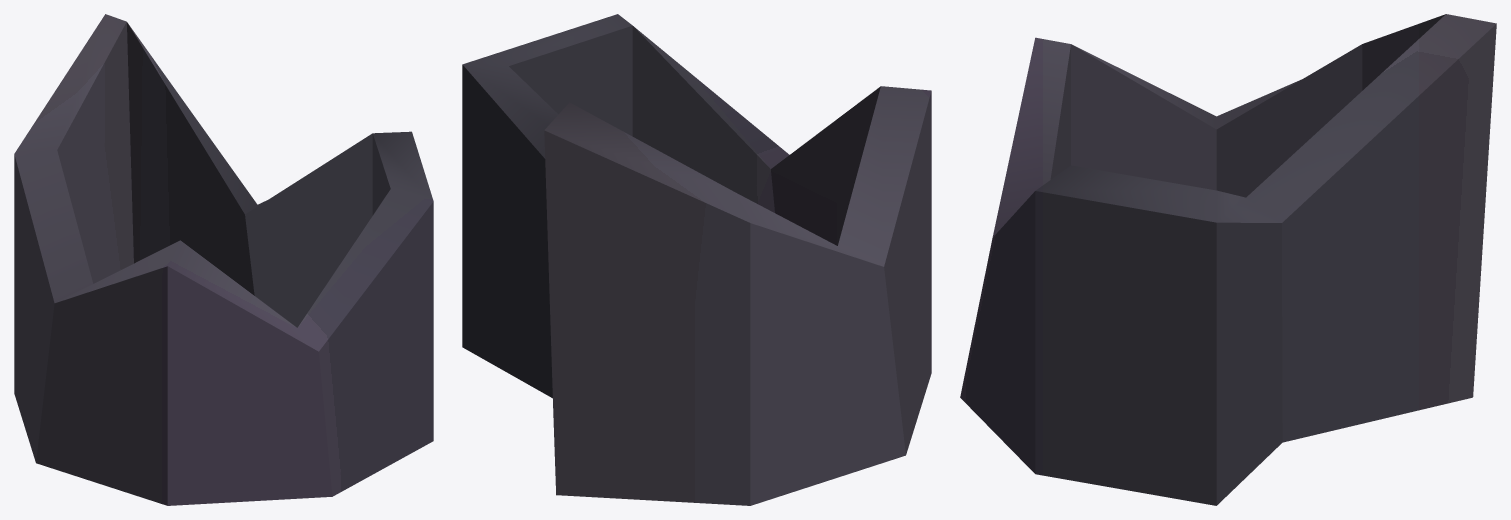
The model's file is SS_Log4.fbx.
The picture shows the model from 3 angles, left to right: view 1: azimuth 30°, elevation 25°; view 2: azimuth 150°, elevation 25°; view 3: azimuth 270°, elevation 25°; orthographic projection. The views are drawn at different scales.
Visible parts, largest first — view 1: Log4; view 2: Log4; view 3: Log4.
Part boxes in pixels (bbox=[...]): Log4: bbox=[14, 14, 433, 505]; Log4: bbox=[462, 14, 931, 505]; Log4: bbox=[960, 14, 1496, 505].
Size of the model in its own units: 1.54 by 1.31 by 1.61.
